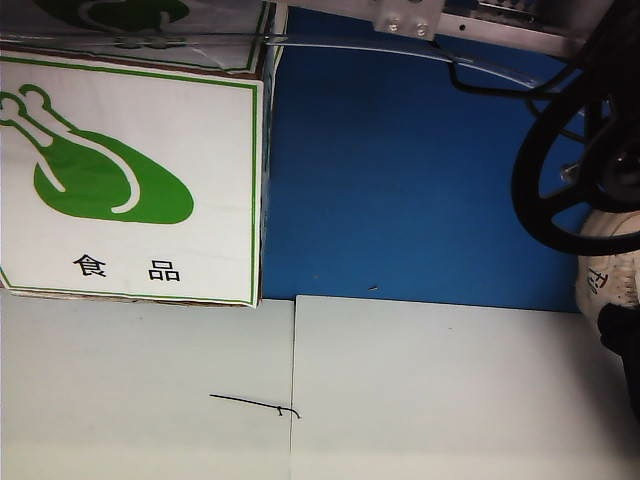Cube_food: (0, 76, 203, 289)
